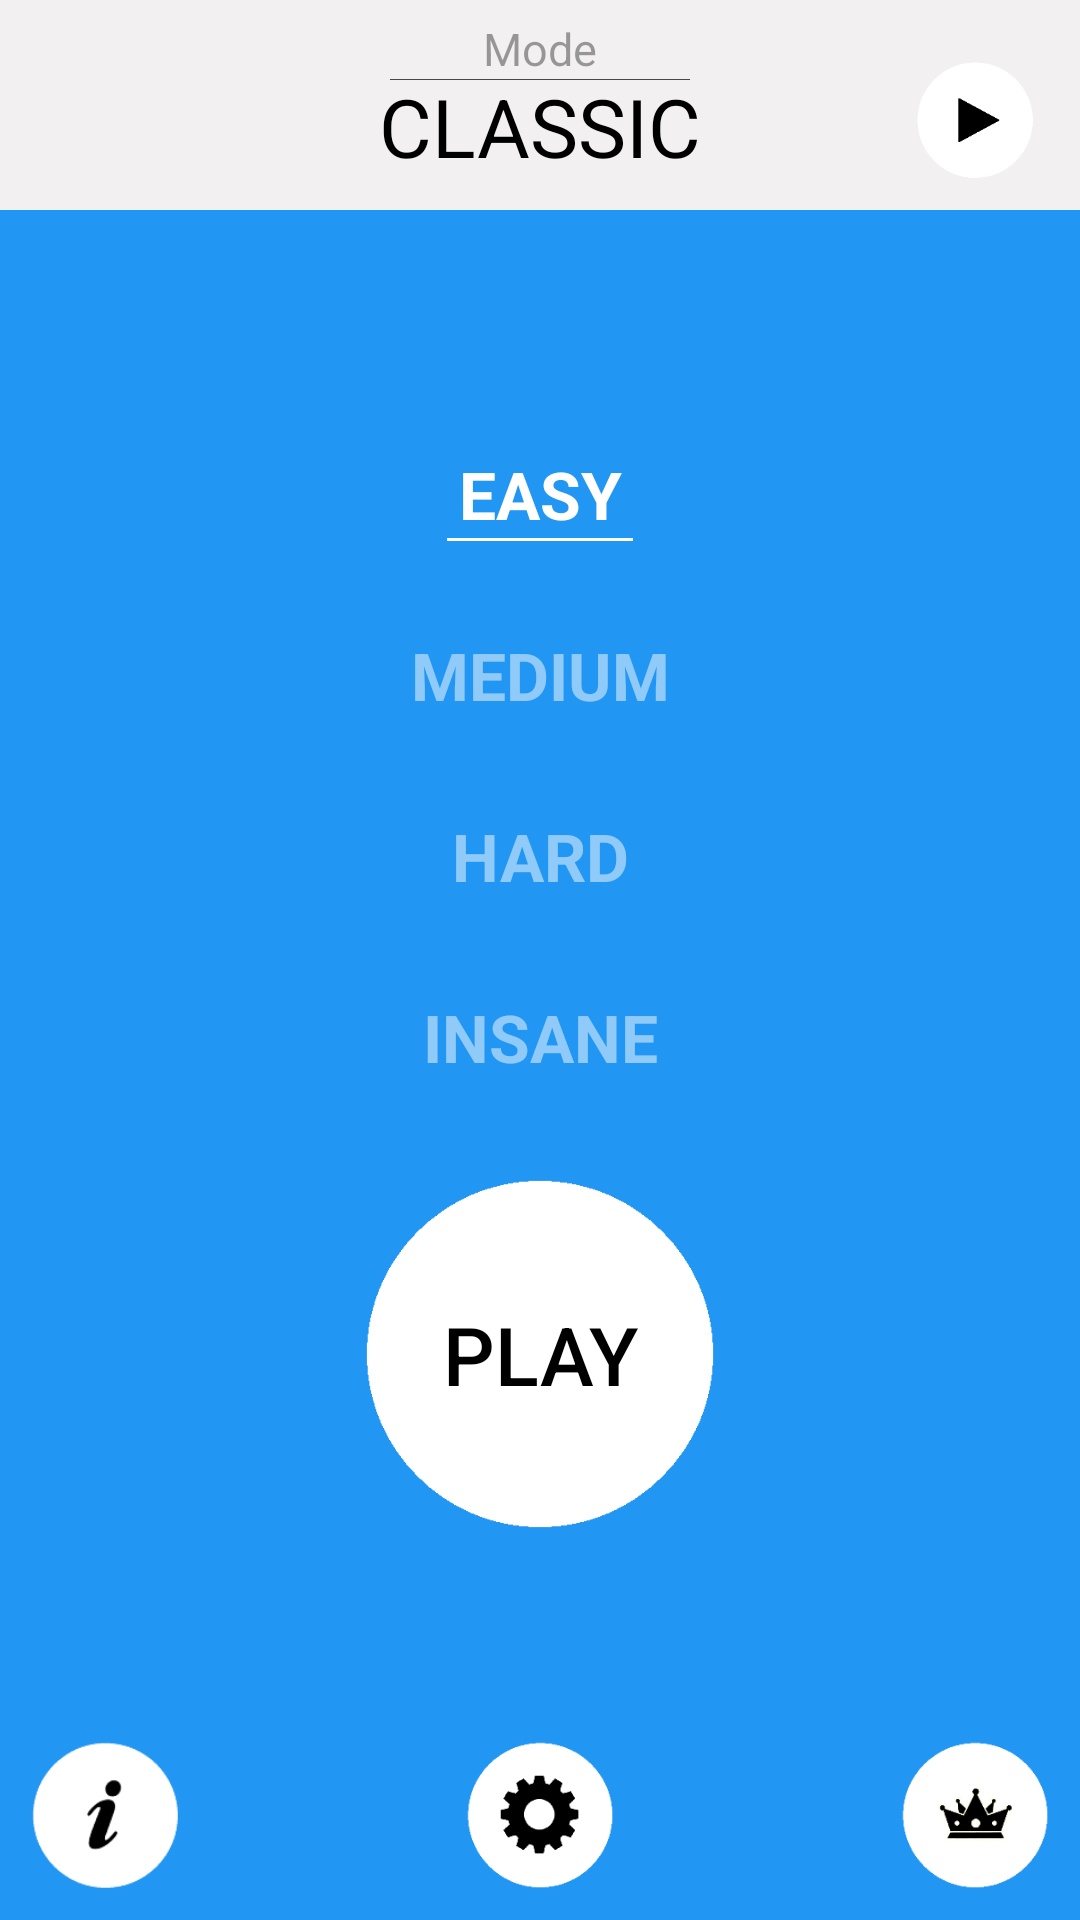

Named icons in this screenshot (1080×1920) and their bounding boxes, [x1, y1, x2, y2]:
customhighscore: [902, 1742, 1048, 1888]
custominfo: [33, 1743, 178, 1888]
customrightbutton: [958, 98, 1000, 142]
customsettings: [467, 1742, 613, 1888]
